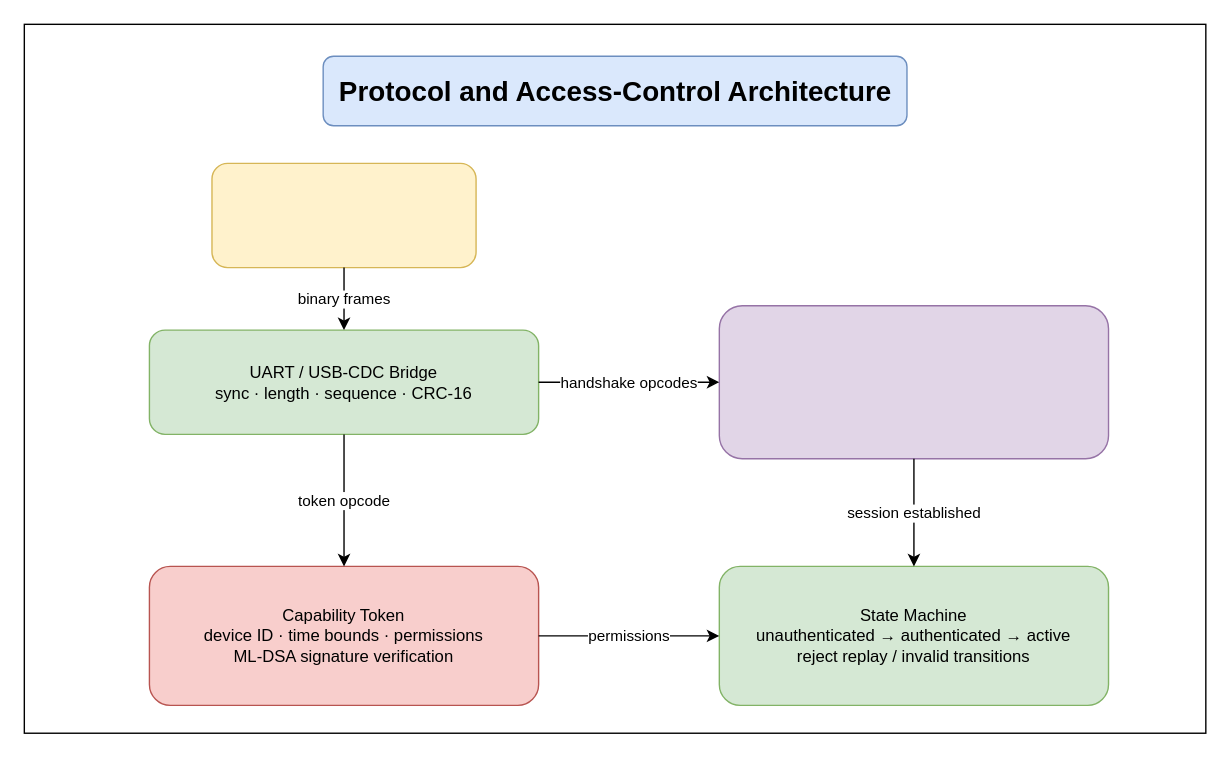
Some shapes in this 1230 by 758 pixel diagram are drawn without their labels. Each missing label, with the box of its shape:
Host Client qsac_server.py: (211, 162, 476, 268)
Hybrid Handshake ECDH + ML-KEM + ML-DSA HKDF → AES session key: (718, 304, 1109, 459)
